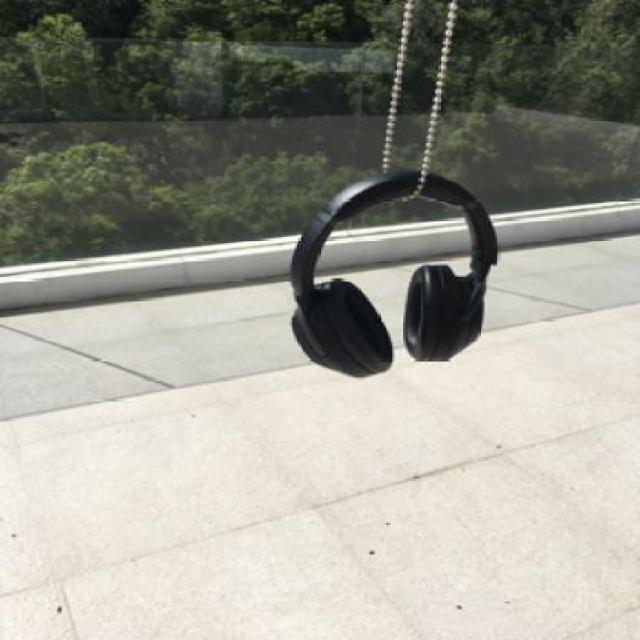earphone: (282, 96, 518, 422)
